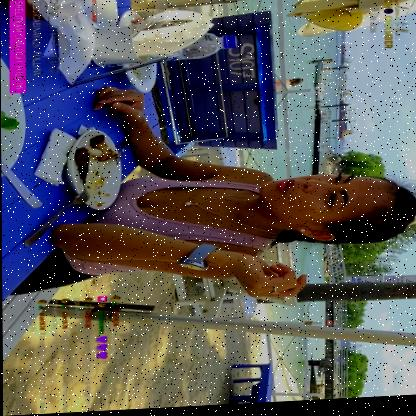streamer: (7, 73, 416, 311)
